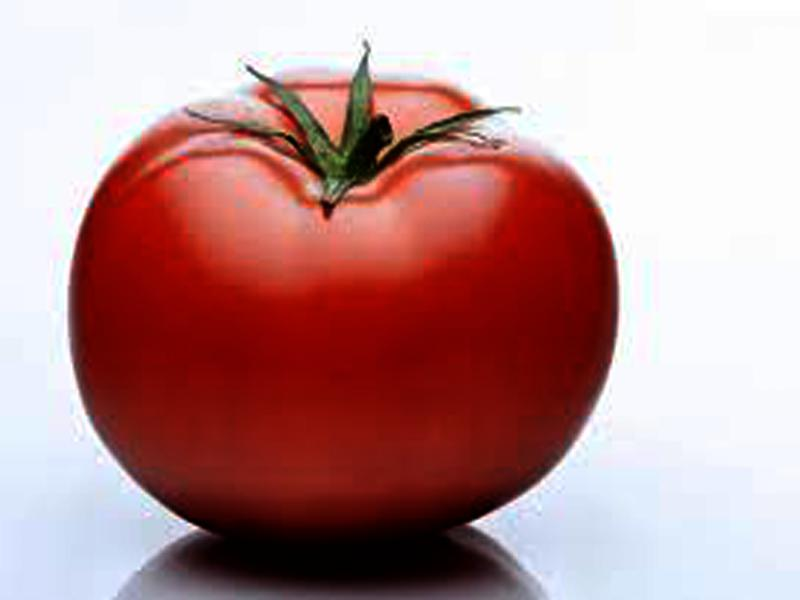Tomato: (68, 75, 615, 538)
